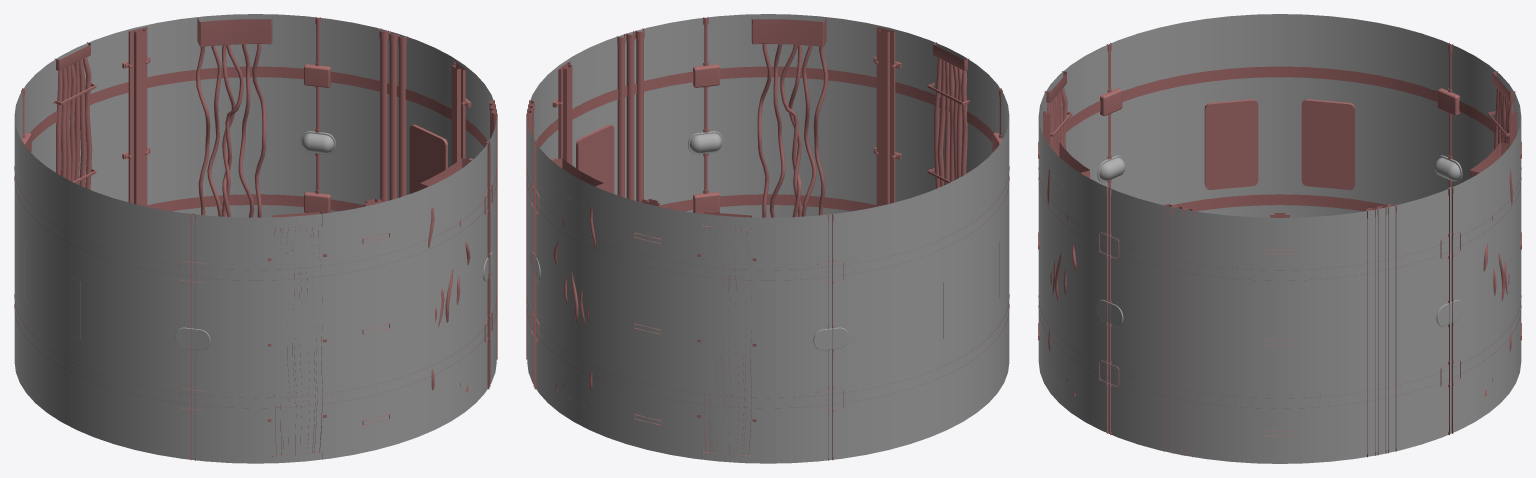
File: ShaftSection4M.fbx
3 views of the same model, side by side, from view 1: azimuth 30°, elevation 25°; view 2: azimuth 150°, elevation 25°; view 3: azimuth 270°, elevation 25° (orthographic).
Parts seen in each view (by area): view 1: ShaftSection4M; view 2: ShaftSection4M; view 3: ShaftSection4M.
Boxes of the visible parts, box(x1,y1,x2,y2) form: ShaftSection4M: box(14, 14, 497, 463); ShaftSection4M: box(526, 14, 1009, 463); ShaftSection4M: box(1038, 14, 1521, 463).
Bounding box in the file's own units: 712 × 400 × 713.
